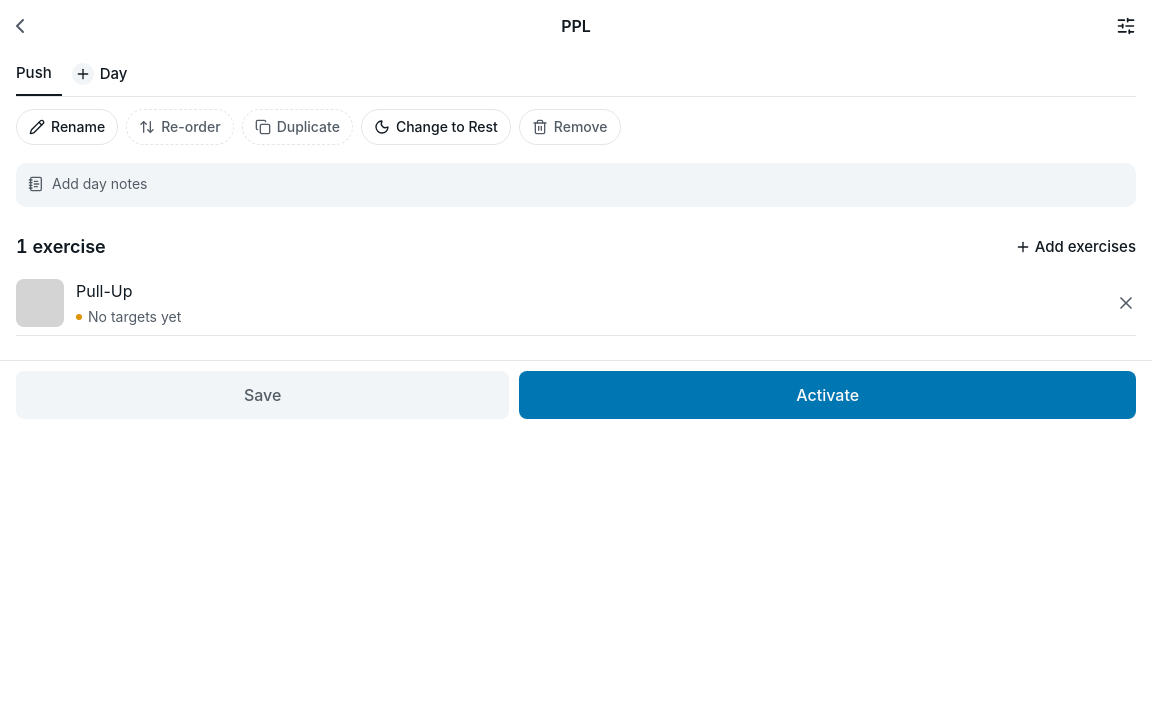
Test: ProgramEditorPage - settings drawer › Delete of an inactive program does not mention deactivation
The image size is (1152, 720).
Click the button named "Program settings".
click(1114, 26)  # box [1092,4,1136,48]
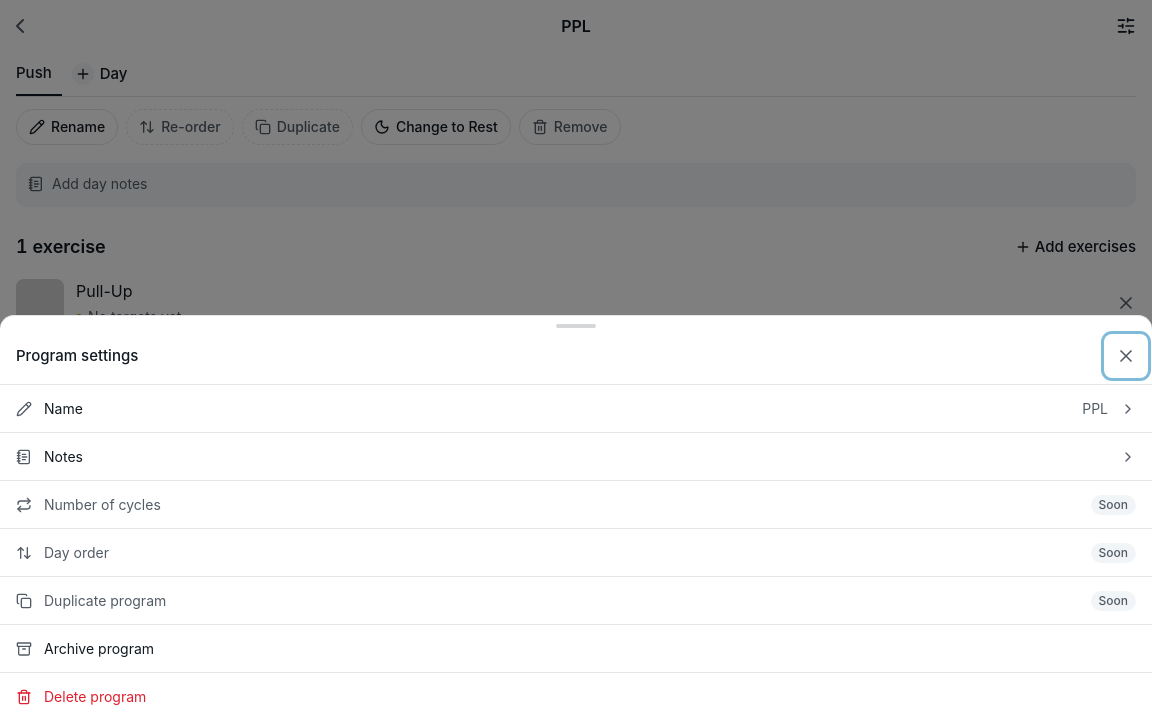
Click the button "Delete program".
click(95, 696)  # box [0,672,1151,719]
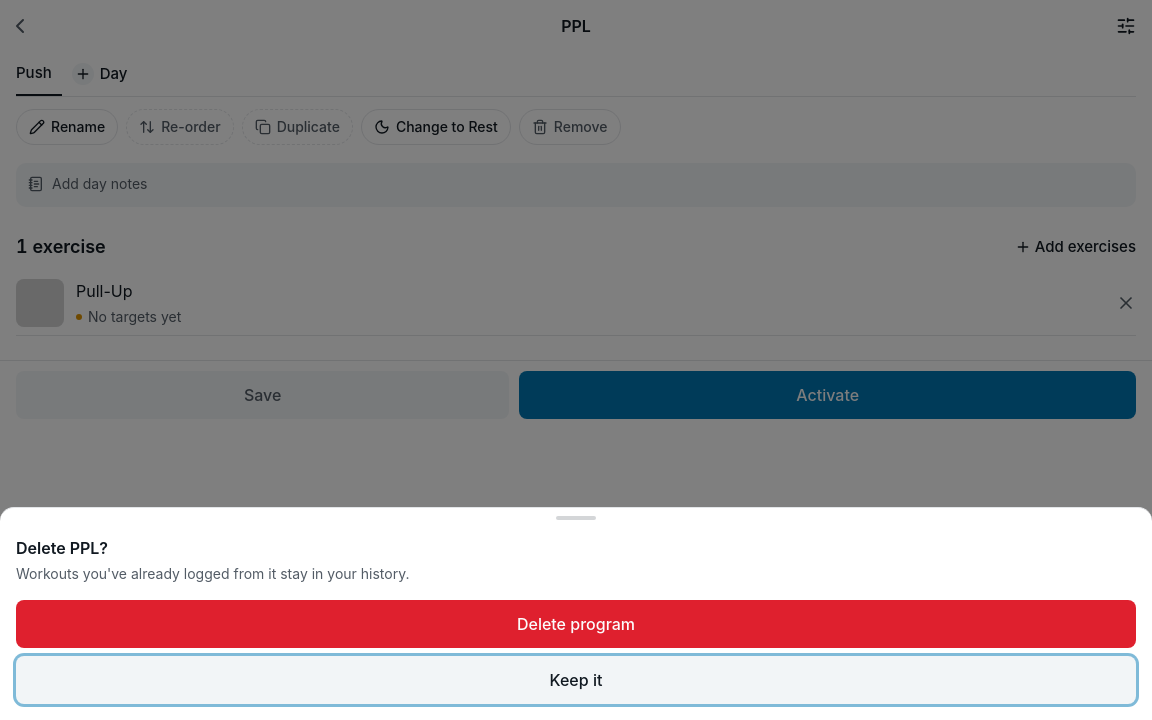
Check: the text "Workouts you've already logged from it stay in your history." is shown, box [16,565,409,582]
